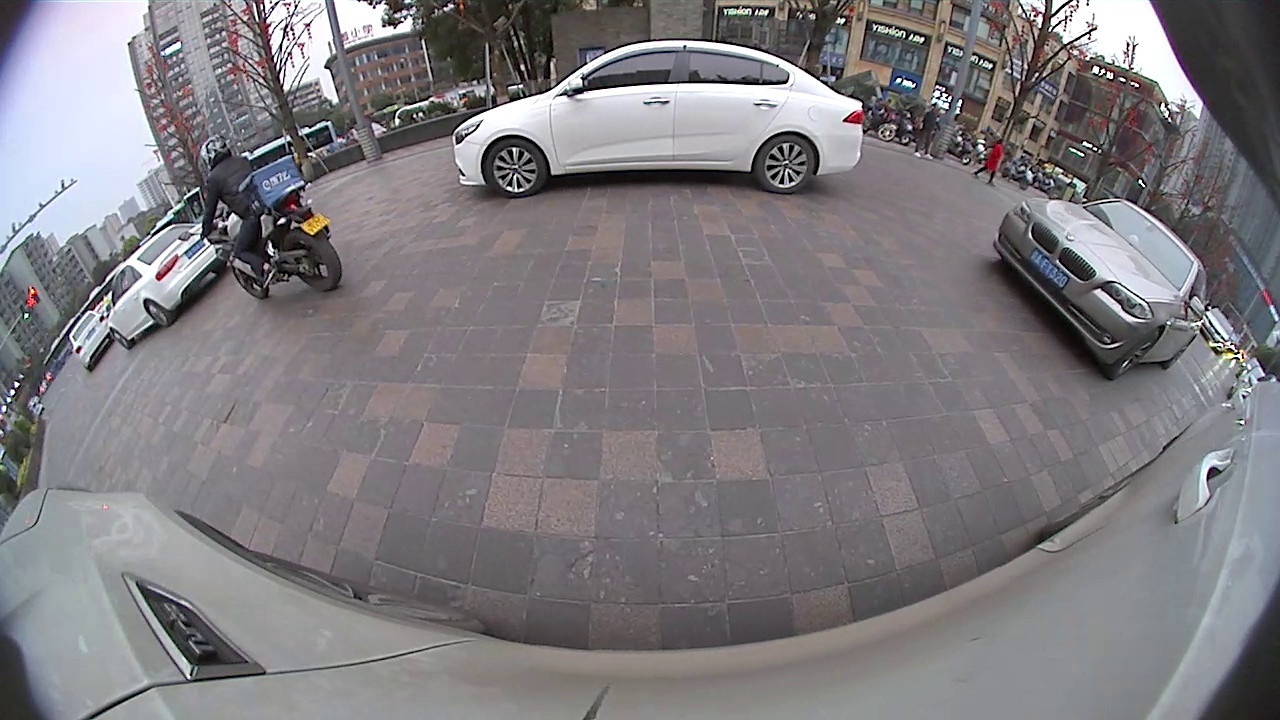car: (450, 36, 867, 198), (990, 194, 1209, 384), (107, 220, 231, 352), (68, 307, 117, 373)
front: (480, 133, 552, 202), (1106, 326, 1161, 383), (226, 252, 271, 303)
rear: (279, 224, 346, 293), (750, 129, 819, 196), (142, 300, 176, 331)
rider: (196, 132, 342, 301)
